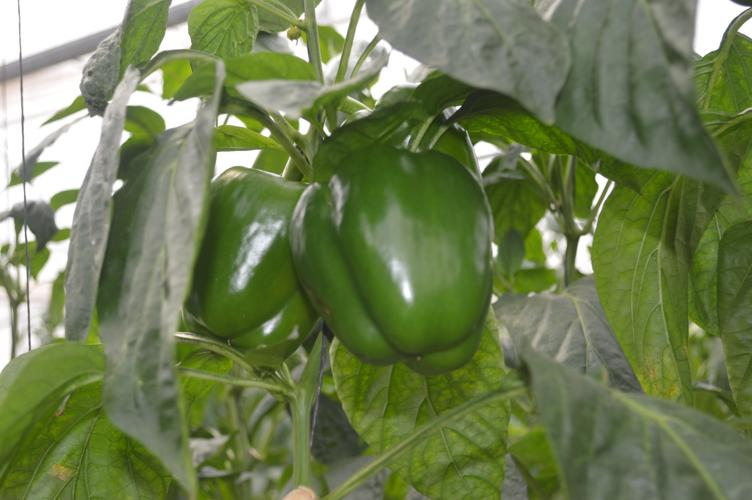BellPepper: (290, 144, 491, 373), (188, 164, 302, 357)
